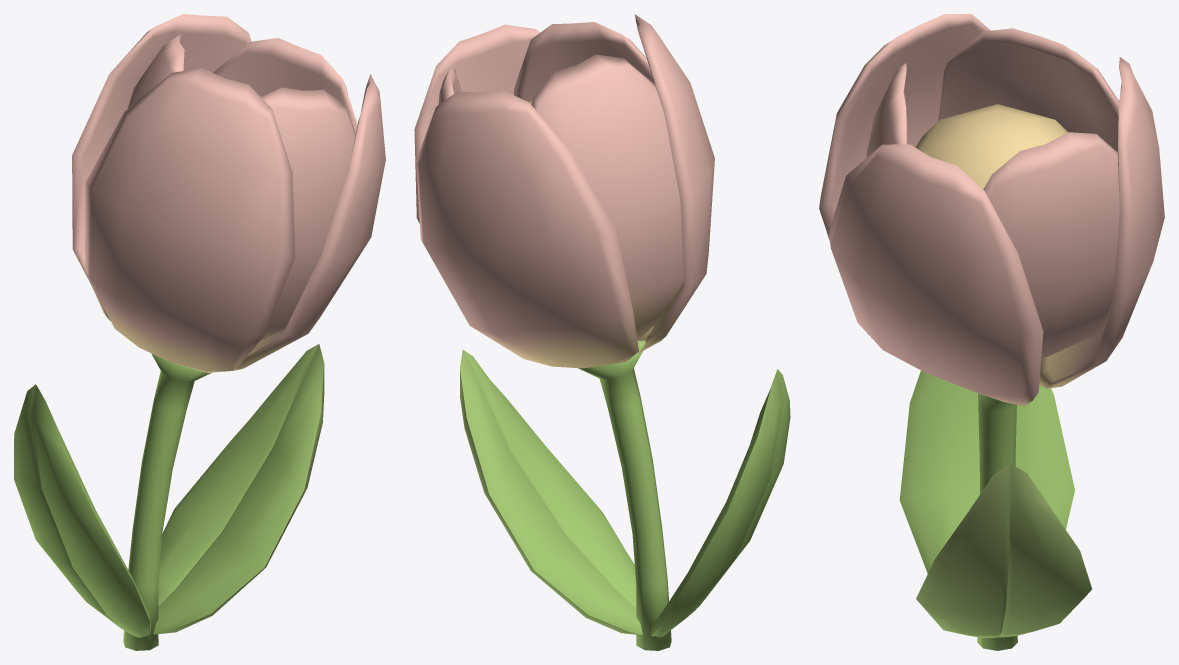
Rendered from Flower_01.fbx.
3 views of the same model, side by side, from view 1: azimuth 30°, elevation 25°; view 2: azimuth 150°, elevation 25°; view 3: azimuth 270°, elevation 25° (orthographic). The views are drawn at different scales.
Parts seen in each view (by area): view 1: 柱体.019; view 2: 柱体.019; view 3: 柱体.019.
Part boxes in pixels (x1=…): 柱体.019: x1=14, y1=14, x2=385, y2=650; 柱体.019: x1=414, y1=14, x2=790, y2=650; 柱体.019: x1=819, y1=14, x2=1164, y2=650.
Bounding box in the file's own units: 21.13 × 33.51 × 16.18.
